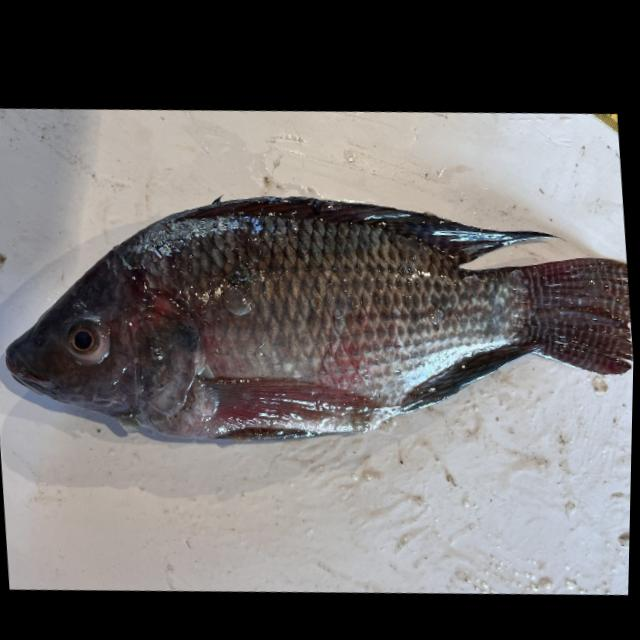Tilapia: (0, 133, 637, 502)
